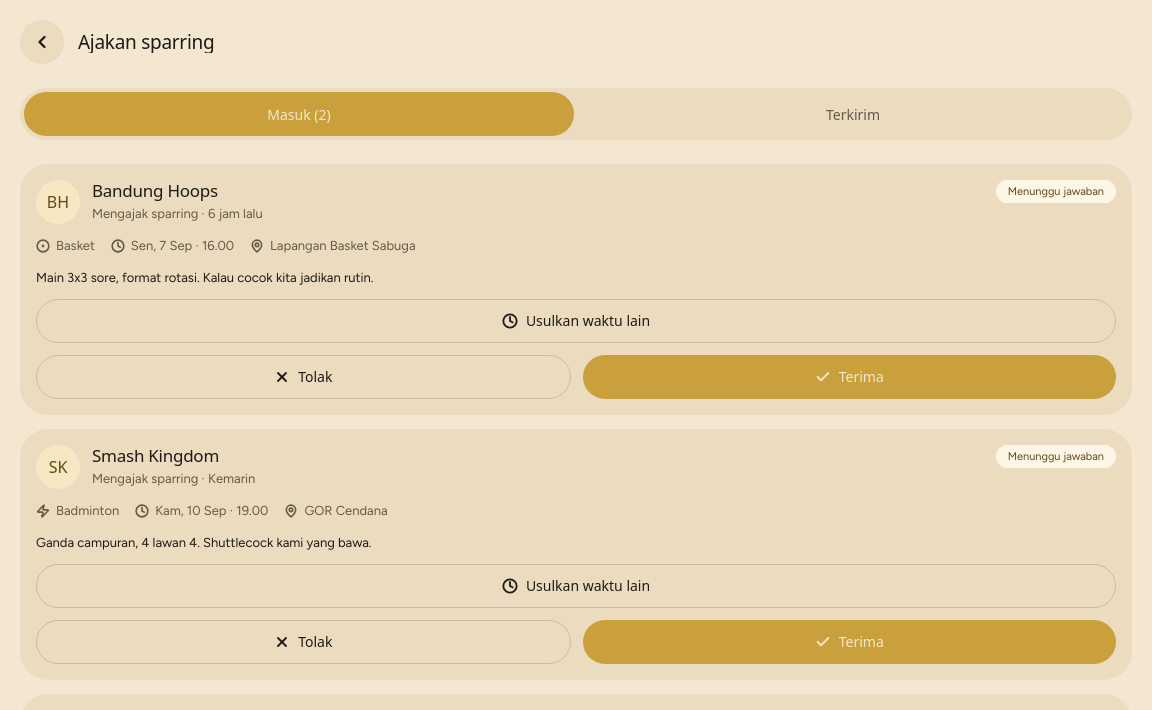
Scenario: SparringScreen › menampilkan state kosong ketika belum ada ajakan terkirim
Click the tab "Terkirim".
click(853, 114)  # box [578, 92, 1128, 136]
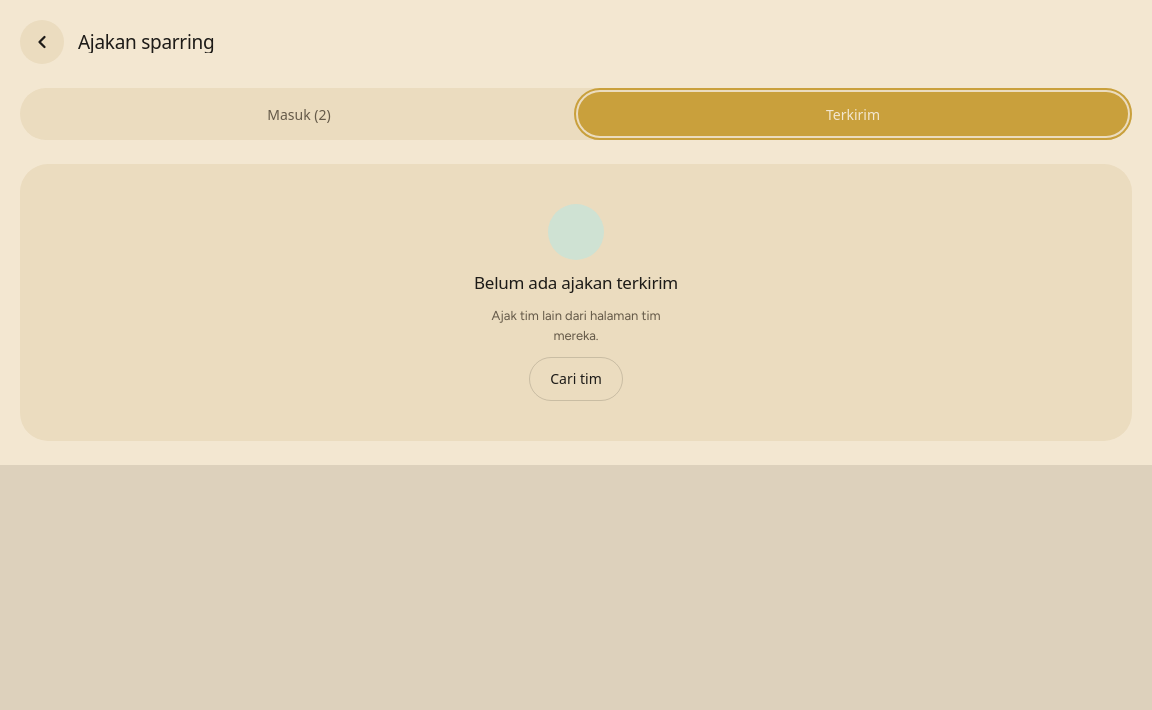
Expected: the heading "Belum ada ajakan terkirim" is shown, [474, 272, 678, 294]
